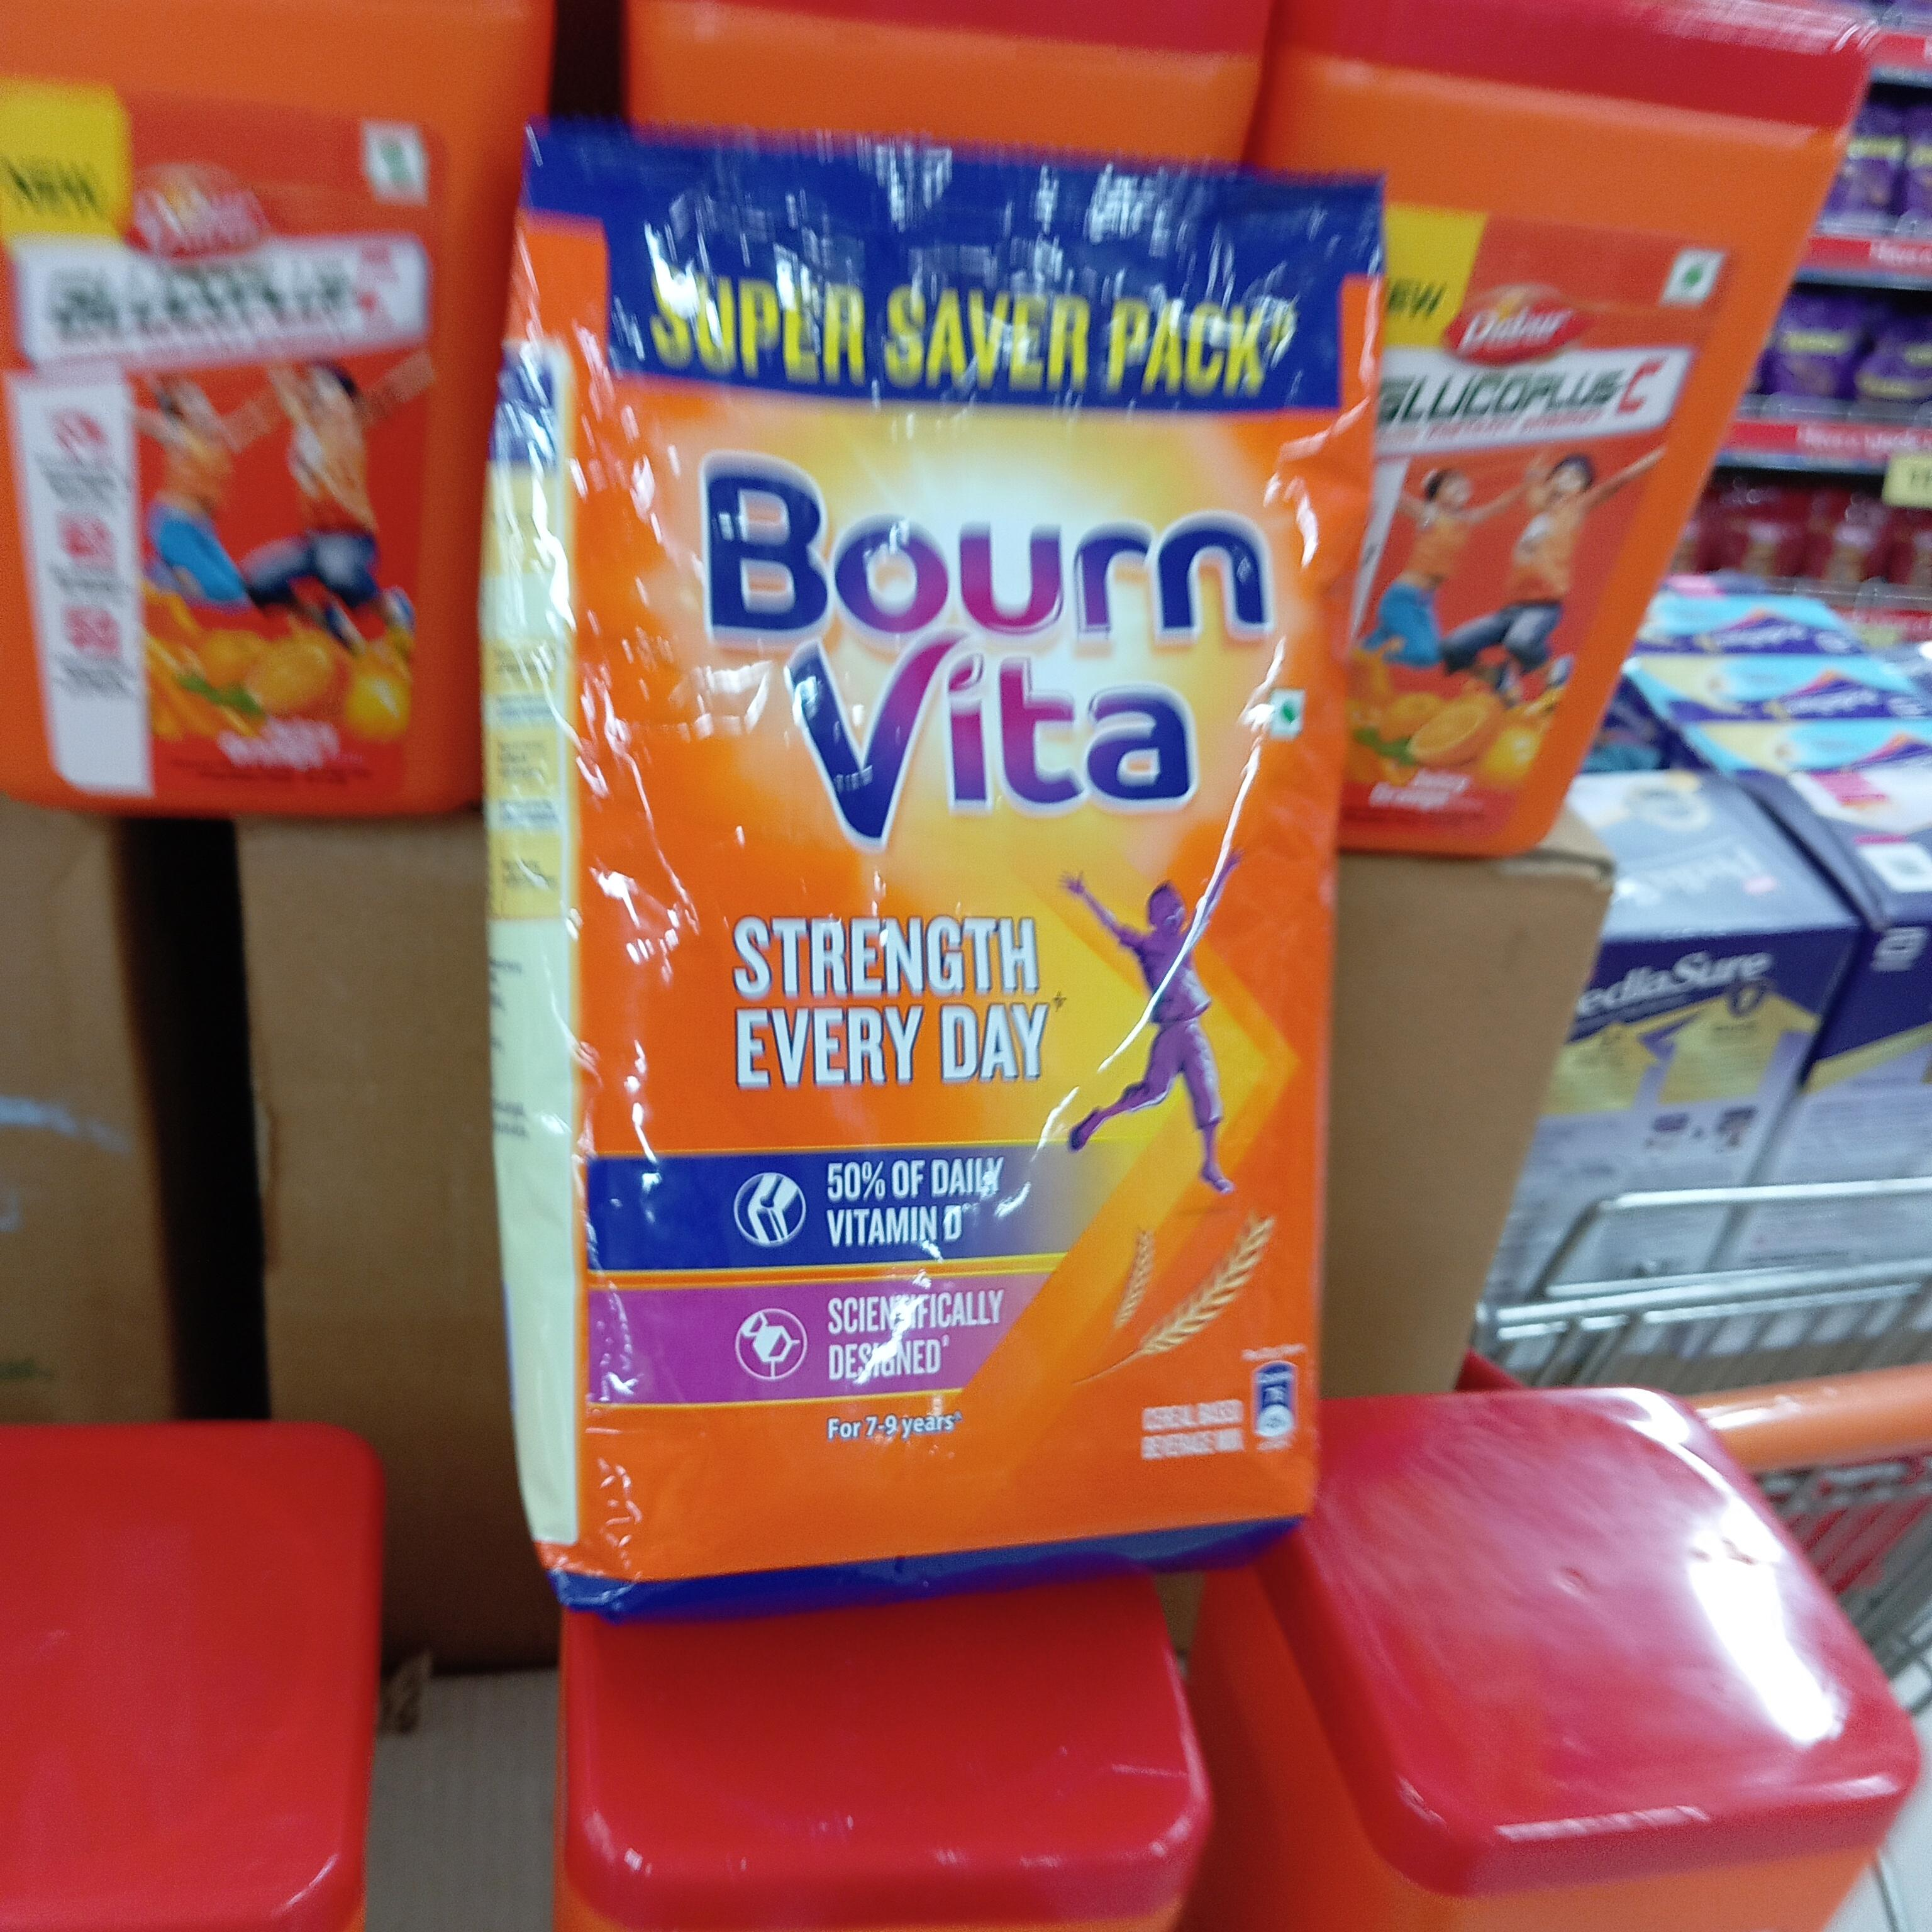BOURN_VITA_1_KG_POUCH: (472, 115, 1327, 1580)
